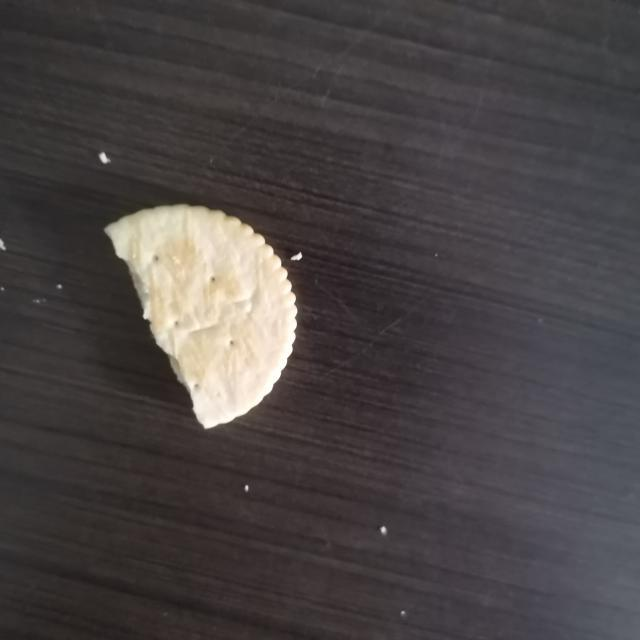Broken: (102, 203, 298, 429)
